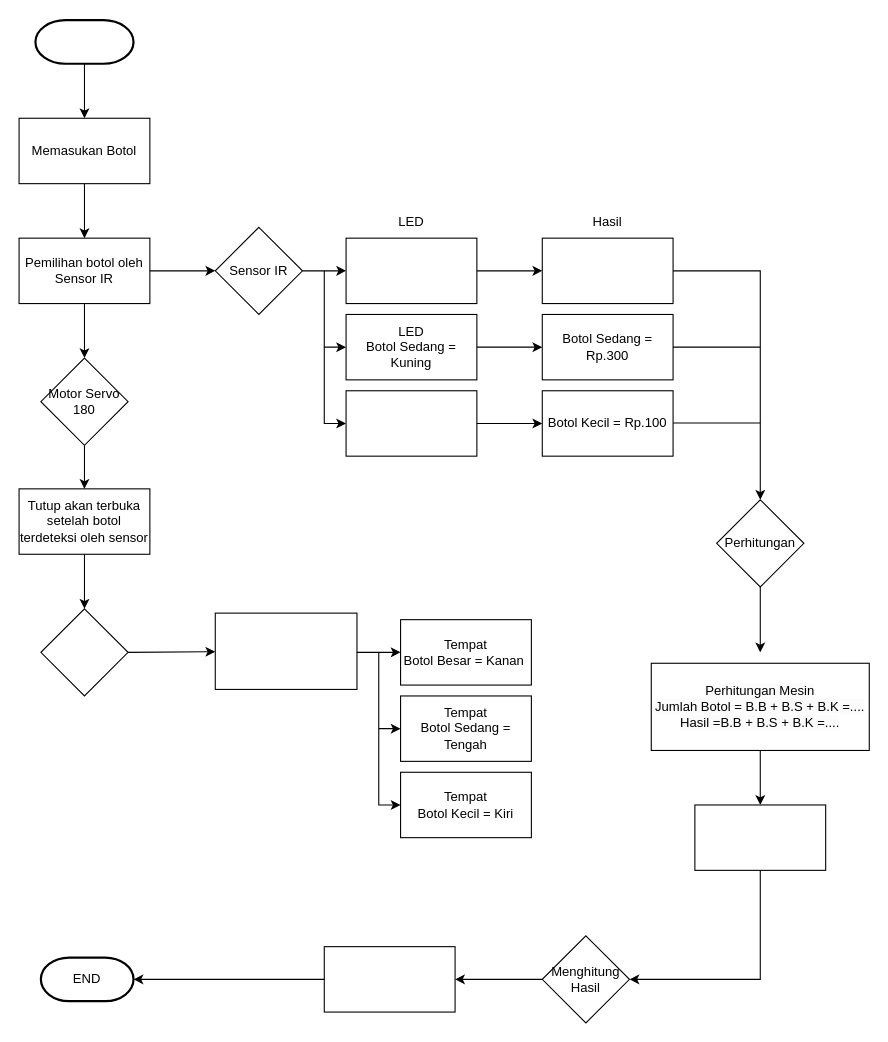
The diagram is 888 pixels wide and 1042 high, and some of its shapes have lost their labels. The shapes that lost their labels are listed below. From the top down, each one's centre as x and y in pixels, then its label:
At (x=84, y=41): "Start".
At (x=411, y=270): "LED Botol Besar = Hijau".
At (x=607, y=270): "Botol Besar = Rp.500".
At (x=411, y=423): "LED Botol Kecil = Merah".
At (x=84, y=652): "Motor Servo 360".
At (x=285, y=650): "Motor servo 360 ini akan memproses botol agar di masukan ke tampungan".
At (x=760, y=837): "Tampilan LCD Jumlah Botol = .... Hasil = ....".
At (x=389, y=979): "Mencetak Hasil pendapatan".
